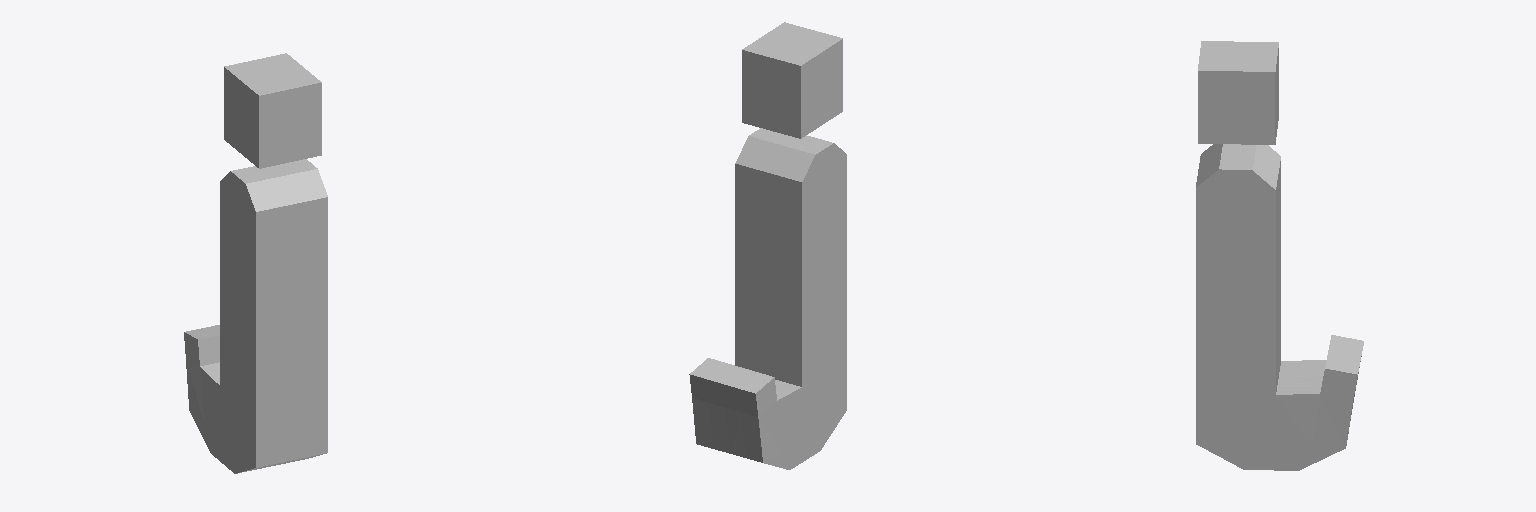
Rendered from letter10.obj.
3 renders of one model, left to right at view 1: azimuth 30°, elevation 25°; view 2: azimuth 150°, elevation 25°; view 3: azimuth 270°, elevation 25°, orthographic.
Visible parts, largest first — view 1: pCube1, pCube2; view 2: pCube1, pCube2; view 3: pCube1, pCube2.
Boxes of the visible parts, box(x1,y1,x2,y2) form: pCube1: box(184, 159, 327, 473); pCube2: box(224, 53, 321, 168); pCube1: box(689, 128, 846, 469); pCube2: box(742, 22, 842, 138); pCube1: box(1196, 144, 1363, 470); pCube2: box(1198, 41, 1278, 144).
Size of the model in its own units: 1.13 by 5.41 by 2.1.